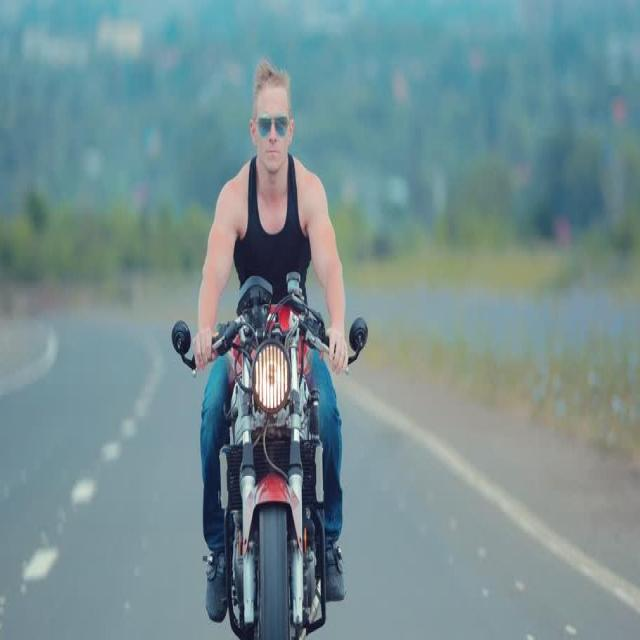no_helmet: (247, 62, 295, 171)
